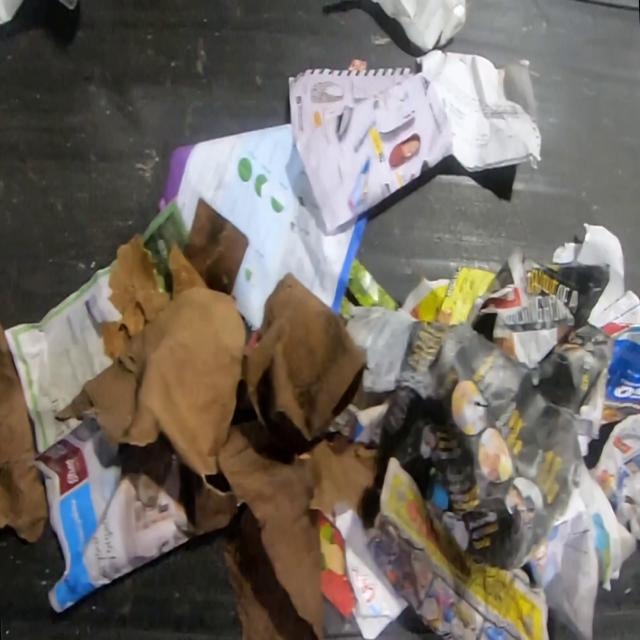cardboard: (55, 192, 382, 640), (0, 321, 47, 544)
